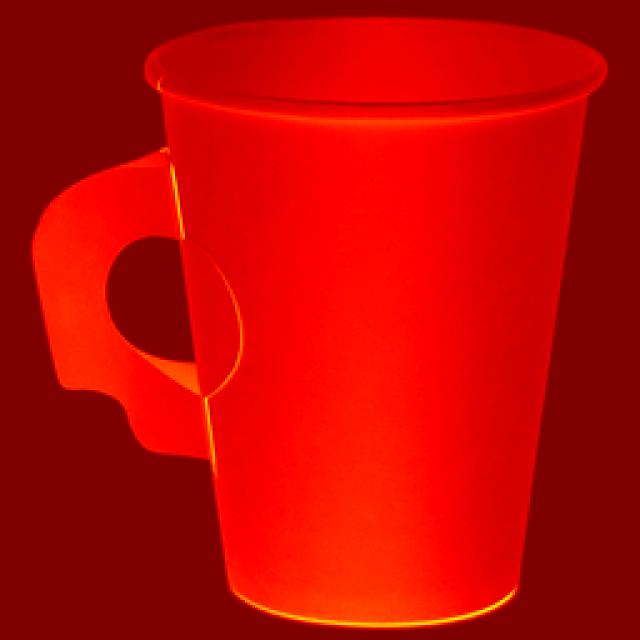Paper Cups: (123, 13, 602, 640)
